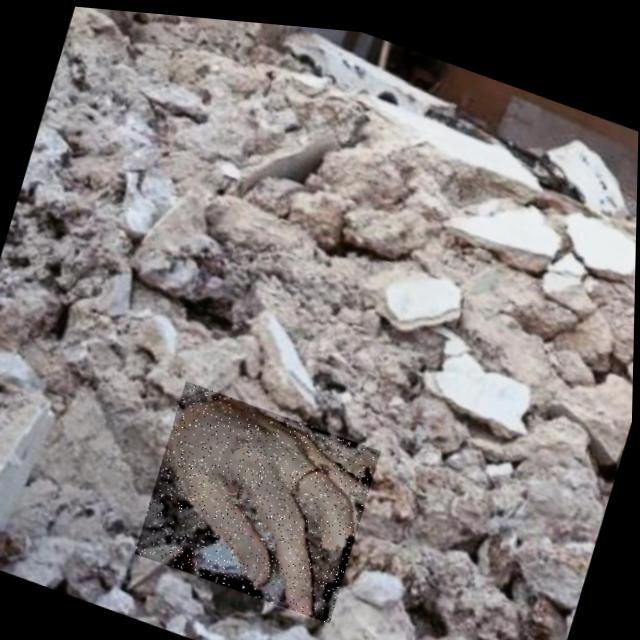Person in Rubble: (136, 374, 383, 620)
